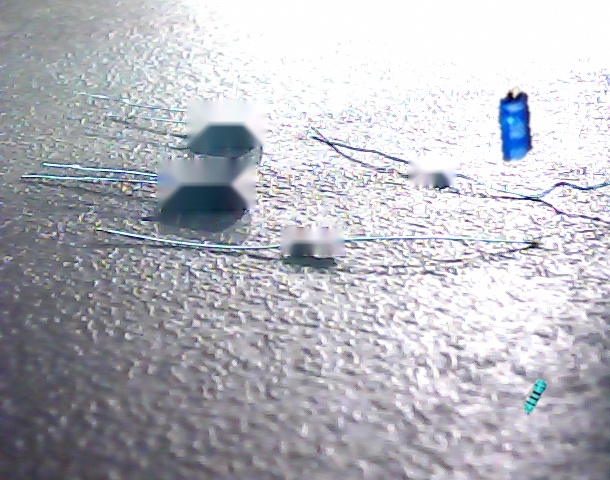capacitor: (498, 87, 533, 162)
resistor: (519, 377, 548, 415)
